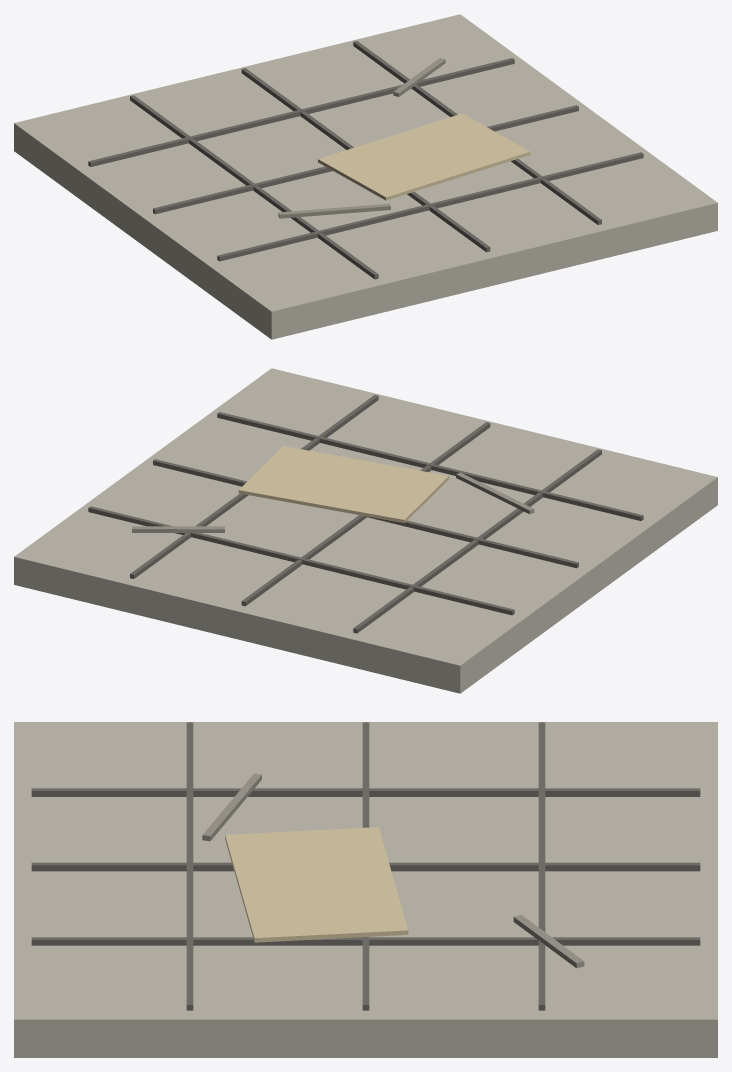
File: mod_floor_tile.glb
3 views of the same model, one above another, from view 1: azimuth 30°, elevation 25°; view 2: azimuth 150°, elevation 25°; view 3: azimuth 270°, elevation 25° (orthographic). The views are drawn at different scales.
Visible parts, largest first — view 1: module_tile_floor_slab_core_2m, tile_floor_dust_patch, tile_floor_horizontal_grout_2, tile_floor_horizontal_grout_0, tile_floor_vertical_grout_0, tile_floor_horizontal_grout_1, tile_floor_vertical_grout_1, tile_floor_vertical_grout_2, tile_floor_cracked_tile_b; view 2: module_tile_floor_slab_core_2m, tile_floor_dust_patch, tile_floor_horizontal_grout_2, tile_floor_horizontal_grout_0, tile_floor_vertical_grout_0, tile_floor_horizontal_grout_1, tile_floor_vertical_grout_1, tile_floor_vertical_grout_2, tile_floor_cracked_tile_a, tile_floor_cracked_tile_b; view 3: module_tile_floor_slab_core_2m, tile_floor_dust_patch, tile_floor_vertical_grout_0, tile_floor_vertical_grout_2, tile_floor_vertical_grout_1, tile_floor_horizontal_grout_2, tile_floor_horizontal_grout_0, tile_floor_horizontal_grout_1, tile_floor_cracked_tile_b, tile_floor_cracked_tile_a.
Part boxes in pixels (x1,y1,x2,y2): module_tile_floor_slab_core_2m: (14, 14, 717, 339); tile_floor_dust_patch: (318, 113, 530, 200); tile_floor_horizontal_grout_2: (217, 152, 643, 261); tile_floor_horizontal_grout_0: (88, 58, 514, 166); tile_floor_vertical_grout_0: (130, 95, 378, 279); tile_floor_horizontal_grout_1: (153, 105, 578, 214); tile_floor_vertical_grout_1: (241, 68, 490, 252); tile_floor_vertical_grout_2: (353, 41, 601, 224); tile_floor_cracked_tile_b: (278, 203, 390, 218); module_tile_floor_slab_core_2m: (14, 368, 717, 693); tile_floor_dust_patch: (238, 446, 448, 523); tile_floor_horizontal_grout_2: (217, 412, 643, 520); tile_floor_horizontal_grout_0: (88, 506, 514, 615); tile_floor_vertical_grout_0: (353, 449, 601, 633); tile_floor_horizontal_grout_1: (153, 459, 578, 568); tile_floor_vertical_grout_1: (241, 422, 490, 606); tile_floor_vertical_grout_2: (130, 395, 378, 578); tile_floor_cracked_tile_a: (132, 526, 224, 532); tile_floor_cracked_tile_b: (456, 472, 534, 514); module_tile_floor_slab_core_2m: (14, 722, 717, 1057); tile_floor_dust_patch: (225, 827, 408, 942); tile_floor_vertical_grout_0: (31, 788, 700, 796); tile_floor_vertical_grout_2: (31, 937, 700, 945); tile_floor_vertical_grout_1: (31, 862, 700, 871); tile_floor_horizontal_grout_2: (186, 722, 193, 1010); tile_floor_horizontal_grout_0: (538, 722, 545, 1010); tile_floor_horizontal_grout_1: (362, 722, 369, 1010); tile_floor_cracked_tile_b: (202, 773, 261, 841); tile_floor_cracked_tile_a: (513, 915, 584, 968).
Bounding box in the file's own units: 2 × 0.167 × 2.
